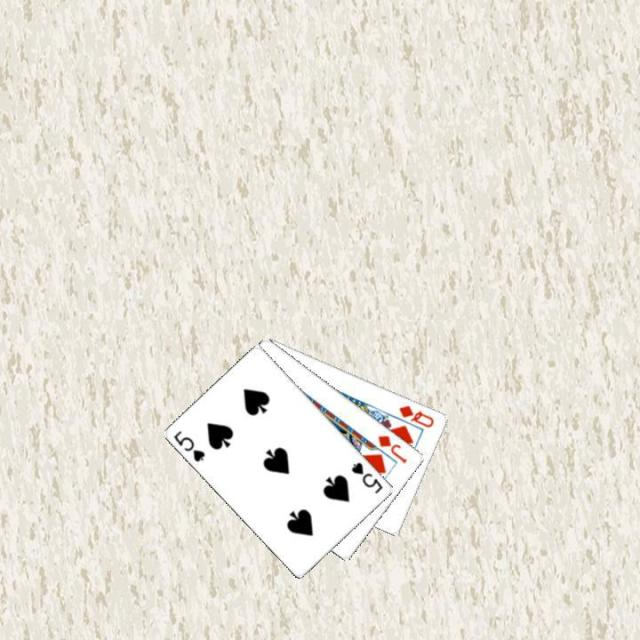5S: (347, 458, 385, 495), (170, 427, 207, 464)
JD: (374, 431, 409, 465)
QD: (394, 401, 436, 429)
